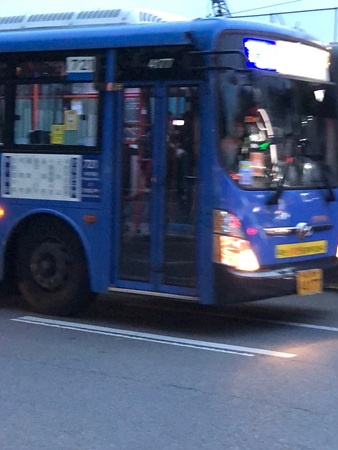entrance: (112, 75, 208, 296)
